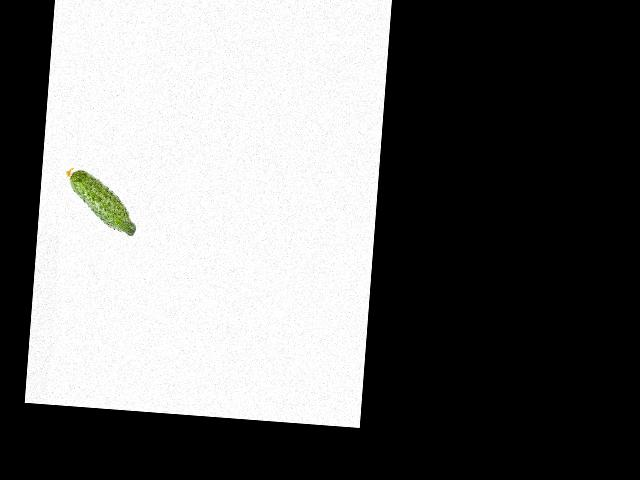cucumber: (61, 167, 139, 236)
